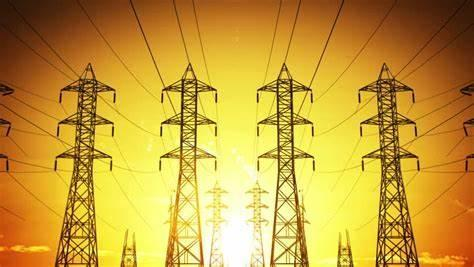power_tower: (353, 61, 432, 267), (245, 64, 324, 264), (46, 60, 117, 267), (153, 60, 215, 267), (237, 178, 274, 267), (201, 179, 236, 266)
